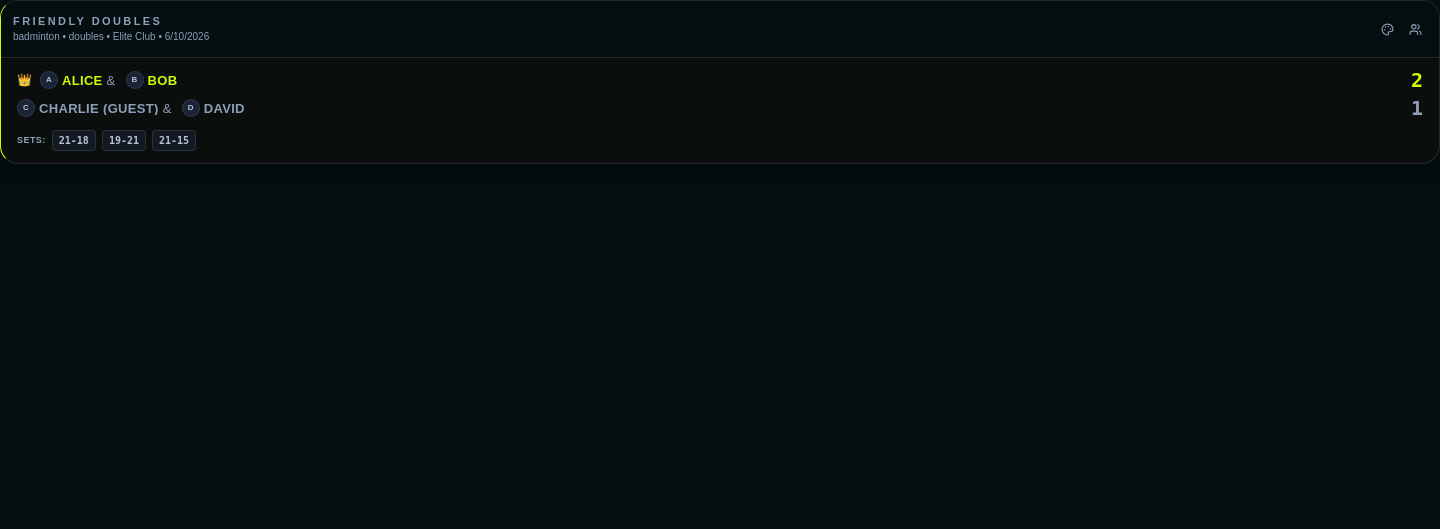
Test: MatchScoreboard Lineup specs integration › renders doubles match and toggles lineup panel correctly without crashing
Expected: the text "Friendly Doubles" is shown, [13,15,162,27]
Expected: the text "Alice" is shown, [62,74,103,86]
# Toggle lineup panel
Click the button titled "Lineup specs": (1415, 29) [1403,9,1427,49]
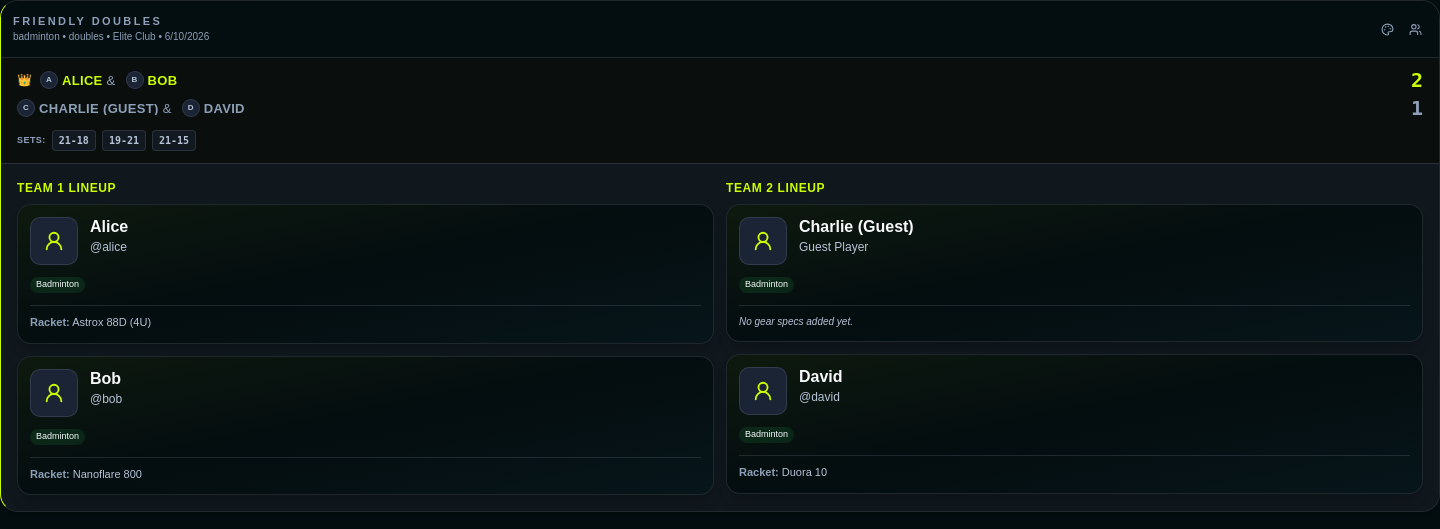
Expected: the text "Team 1 Lineup" is shown, [17,181,116,195]
Expected: the text "Team 2 Lineup" is shown, [726,181,825,195]
Expected: the text "Guest Player" is shown, [799,240,868,254]
